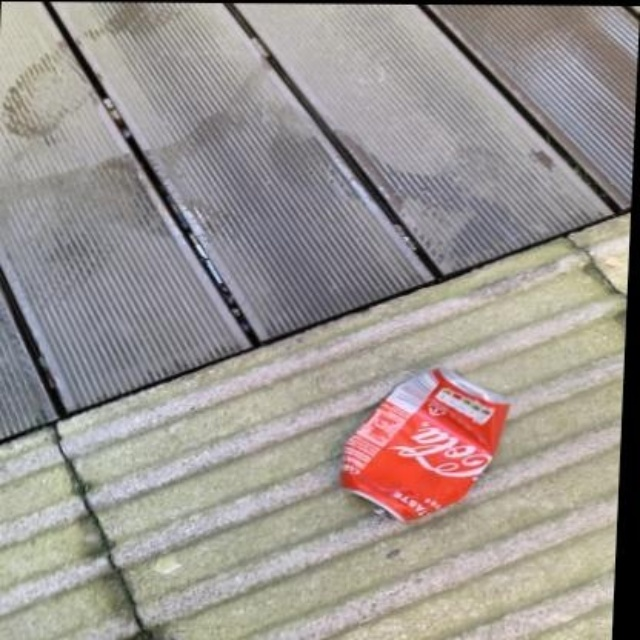trash: (342, 369, 512, 520)
